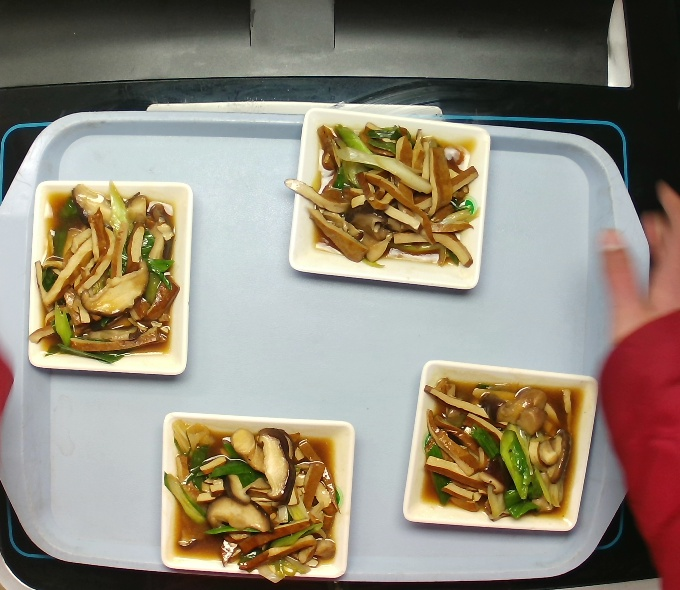wcq-XiangGuChaoXiangGan: (281, 117, 483, 273), (158, 419, 346, 586), (24, 180, 183, 370), (418, 373, 580, 525)
